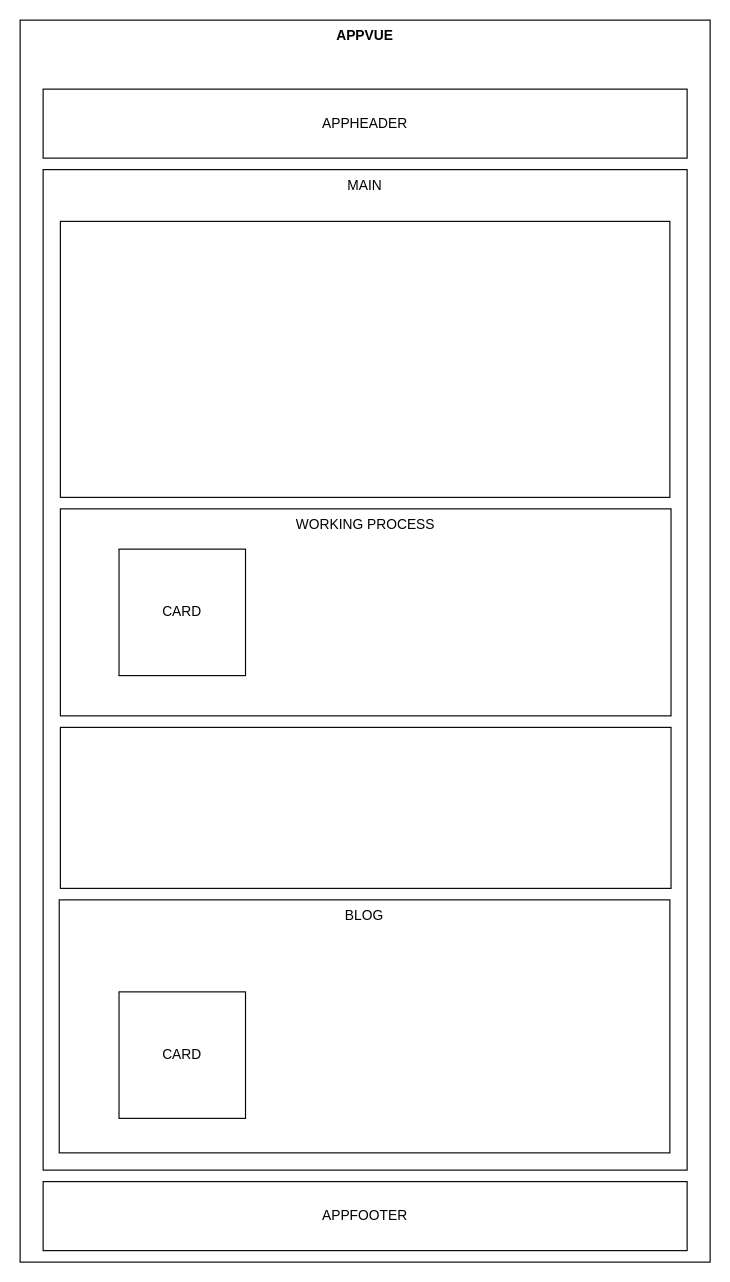
The diagram is 730 pixels wide and 1282 high, and some of its shapes have lost their labels. The centre of each missing label's shape, as x and y in pixels:
"CALL TO ACTION" belongs at (365,807).
"PORTFOLIO" belongs at (364,358).
